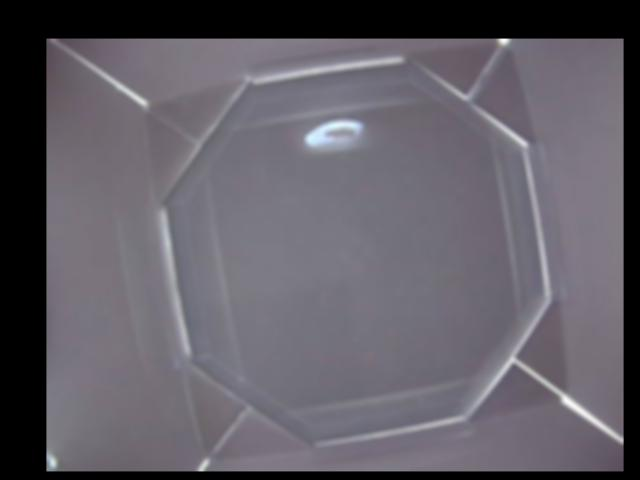China: (302, 117, 361, 152)
